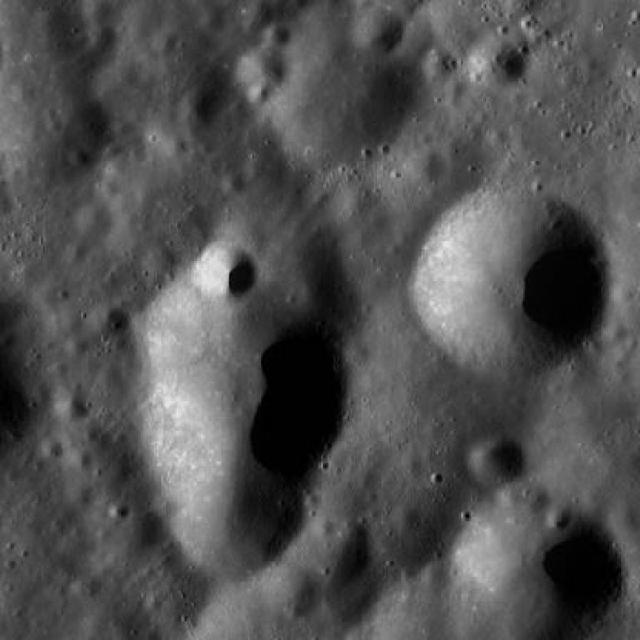crater: (134, 232, 374, 466), (130, 292, 350, 506), (336, 291, 550, 500), (413, 184, 612, 378), (253, 1, 422, 166), (159, 426, 312, 574), (89, 144, 218, 270), (0, 418, 103, 574), (220, 170, 340, 288), (0, 65, 111, 189), (0, 0, 102, 109), (82, 483, 170, 569), (126, 543, 211, 626), (304, 518, 370, 584), (464, 23, 530, 88), (193, 241, 256, 301), (96, 56, 153, 112), (468, 431, 526, 486), (494, 472, 550, 528), (265, 562, 321, 616), (234, 43, 286, 94), (352, 2, 403, 52), (332, 175, 382, 223), (92, 445, 134, 487), (36, 276, 78, 316), (178, 86, 217, 125), (238, 0, 282, 34), (227, 218, 266, 256), (396, 20, 434, 57), (249, 148, 286, 185), (408, 146, 446, 182), (90, 303, 127, 339), (50, 386, 86, 422), (78, 202, 114, 238), (418, 44, 454, 80), (122, 0, 160, 32), (144, 244, 178, 276), (61, 442, 90, 470), (389, 500, 418, 528), (87, 20, 116, 48), (4, 78, 32, 106), (607, 501, 635, 528), (76, 573, 102, 599), (67, 477, 93, 503), (262, 21, 288, 47), (542, 502, 567, 527), (198, 4, 222, 30), (148, 29, 172, 53), (79, 0, 107, 20), (37, 434, 60, 458), (243, 80, 268, 102), (106, 496, 128, 518), (62, 333, 84, 355), (605, 319, 627, 341), (62, 310, 84, 332), (222, 170, 244, 192), (397, 448, 417, 468), (99, 367, 119, 387), (166, 138, 186, 158), (97, 176, 117, 196), (0, 190, 15, 216), (488, 126, 507, 146), (67, 242, 87, 261), (443, 75, 463, 94), (615, 285, 634, 304), (72, 146, 90, 166), (315, 519, 333, 538), (346, 343, 364, 362), (147, 594, 164, 610), (1, 1, 2, 2)
